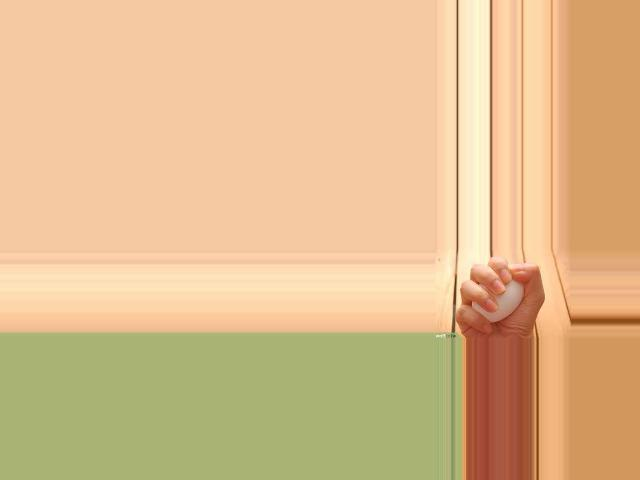egg: (470, 280, 523, 323)
